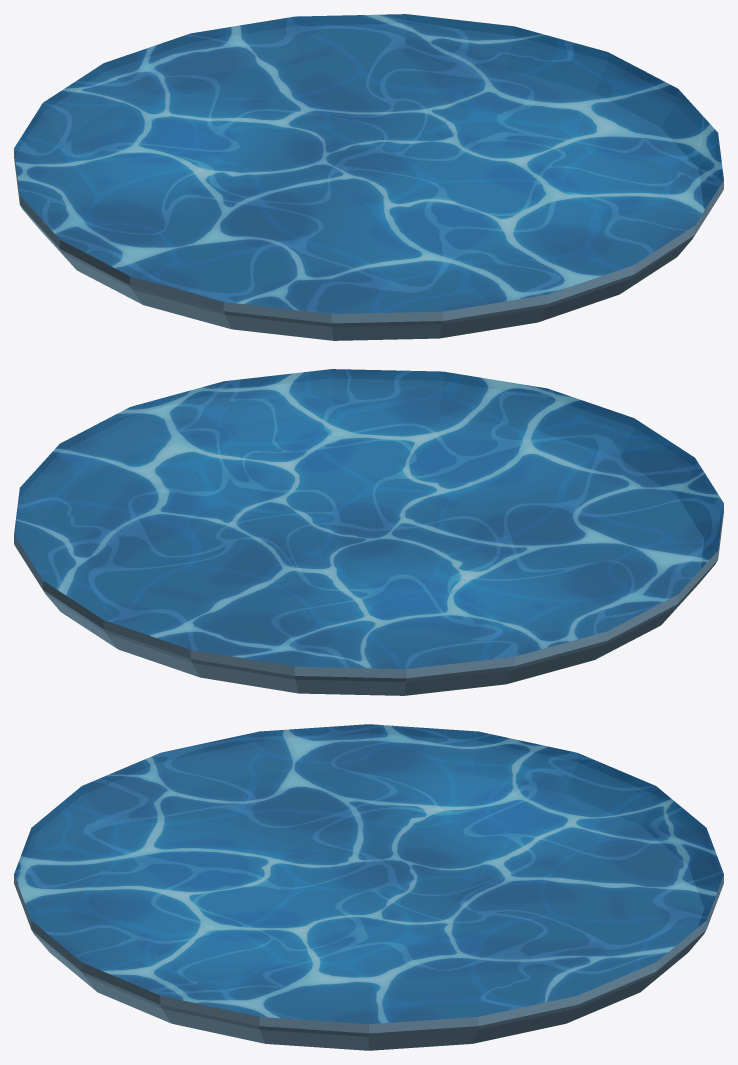
The model's file is stylized_water.fbx.
The picture shows the model from 3 angles, top to bottom: view 1: azimuth 30°, elevation 25°; view 2: azimuth 150°, elevation 25°; view 3: azimuth 270°, elevation 25°; orthographic projection.
Visible parts, largest first — view 1: pDisc1; view 2: pDisc1; view 3: pDisc1.
Part boxes in pixels (bbox=[...]): pDisc1: bbox=[14, 14, 723, 340]; pDisc1: bbox=[14, 369, 723, 695]; pDisc1: bbox=[14, 724, 723, 1050].
Bounding box in the file's own units: 185 × 9.99 × 185.
